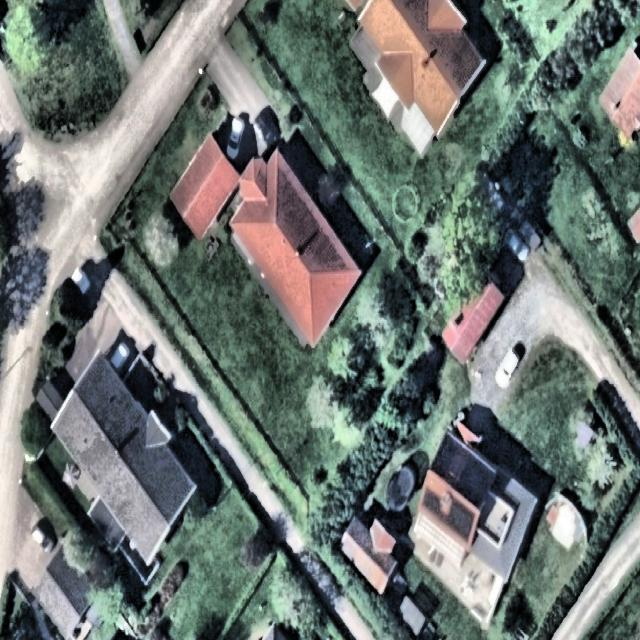roof_pv: (449, 494, 476, 549), (416, 482, 443, 527), (428, 511, 454, 530)
